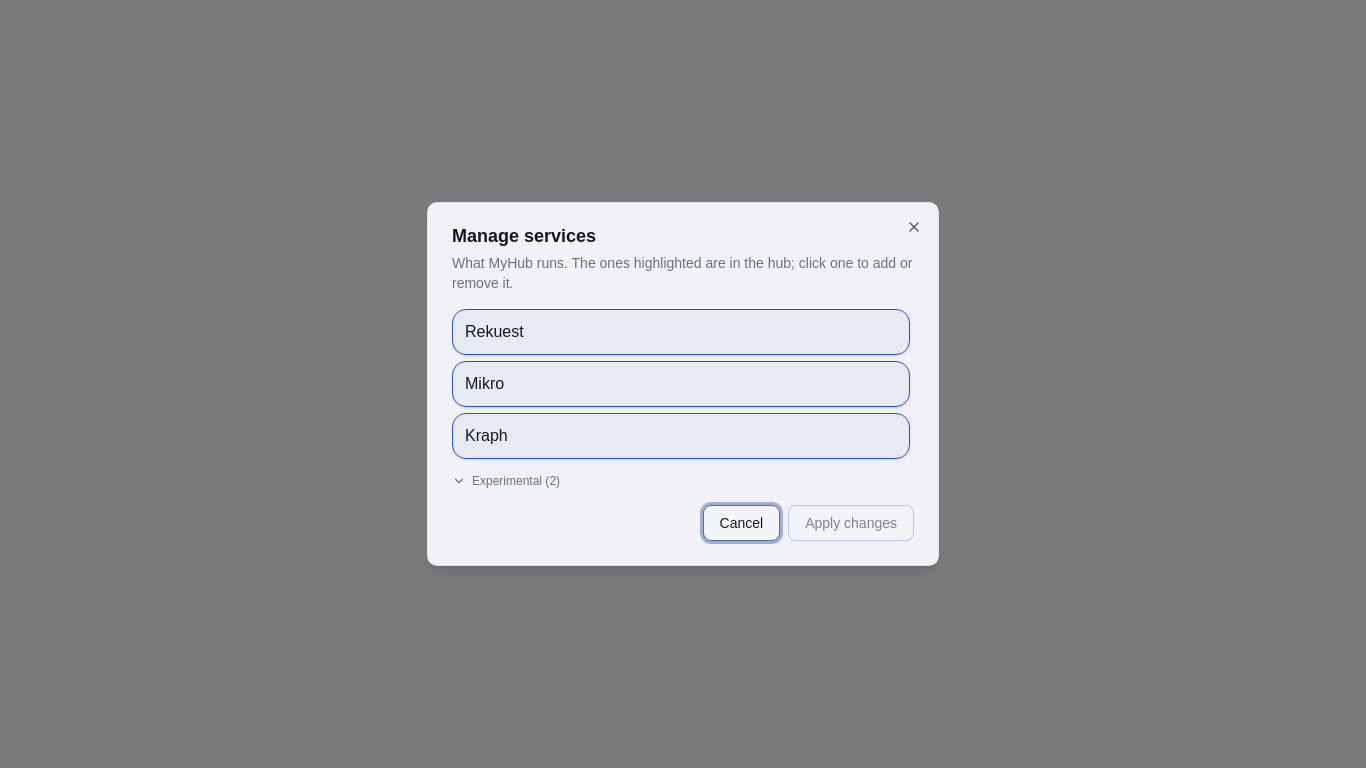
Test: ServicesDialog › shows why the core refuses a change, and will not apply it
expect the text "Mikro" is shown: met, box top-left (465, 372), bottom-right (504, 396)
What coordinates should you click on to do the following:
click the text "Rekuest"
I would click on:
 (494, 332)
Its box is top-left (465, 320), bottom-right (524, 344).
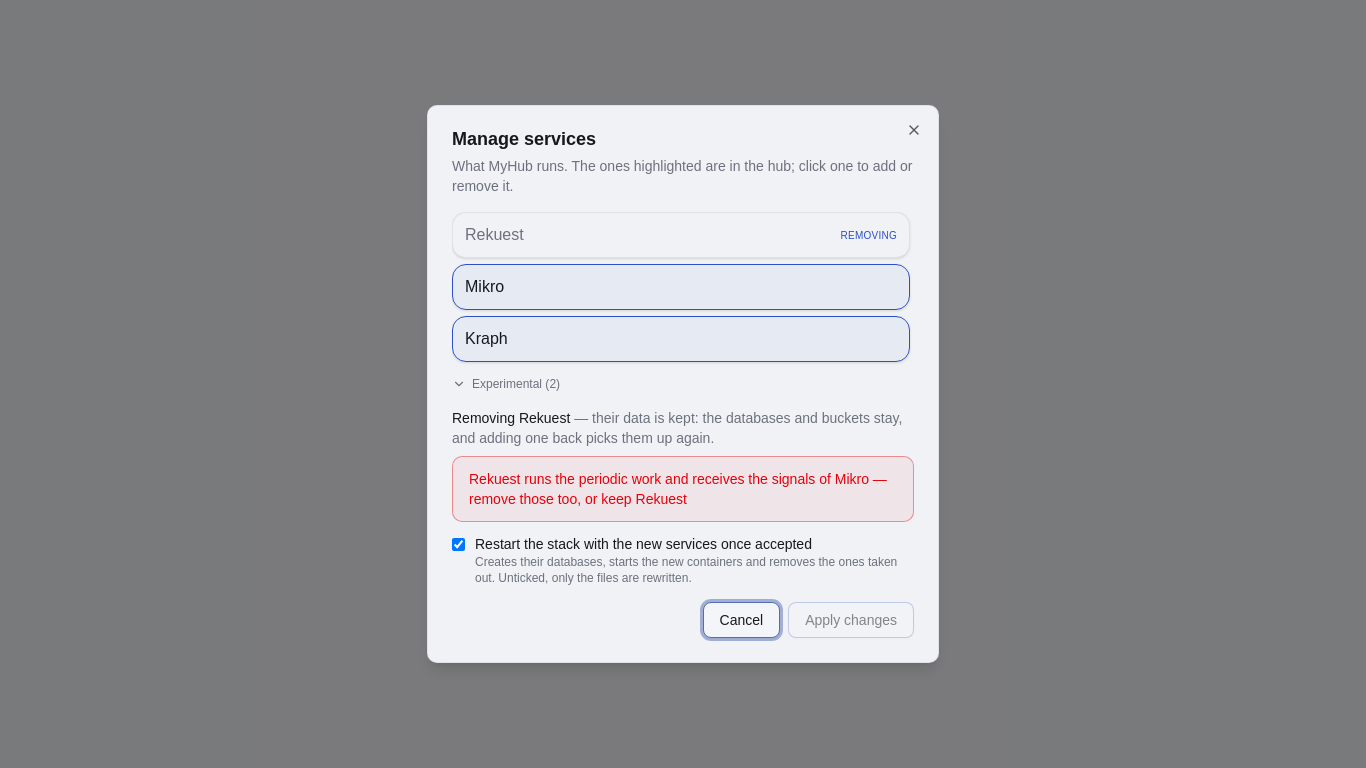
expect the button "Apply changes" is disabled: met, box top-left (788, 602), bottom-right (914, 638)
expect the text "or keep Rekuest" is shown: met, box top-left (469, 471), bottom-right (887, 507)
